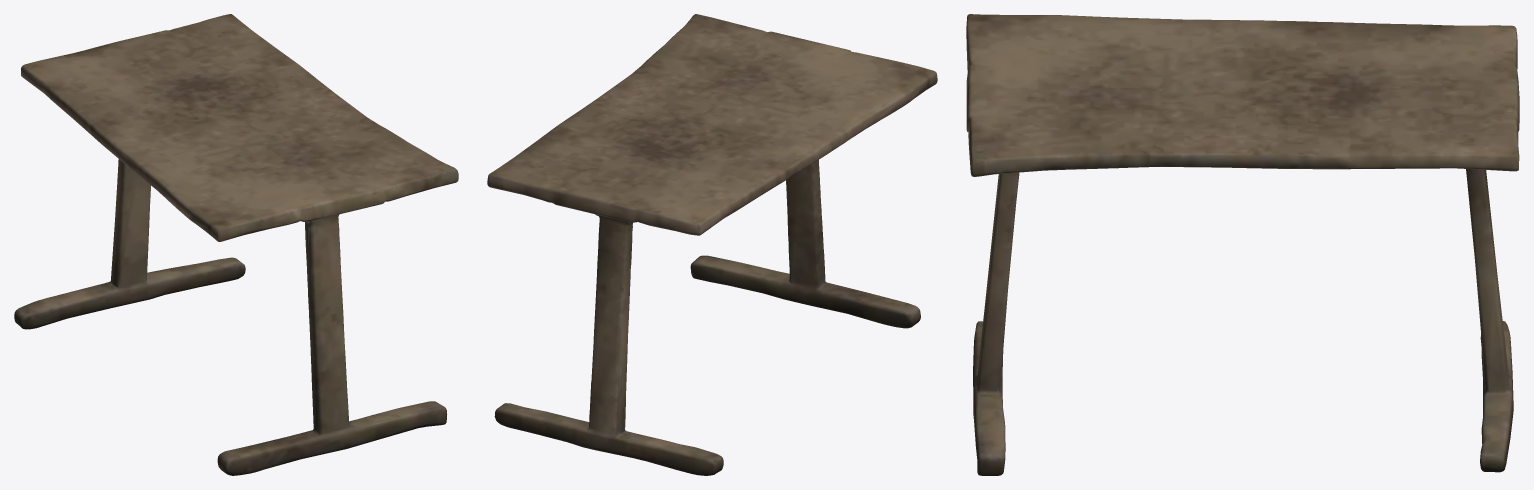
File: plain-wood-banquet-table-v002.glb
3 renders of one model, left to right at view 1: azimuth 30°, elevation 25°; view 2: azimuth 150°, elevation 25°; view 3: azimuth 270°, elevation 25°, orthographic. The views are drawn at different scales.
Visible parts, largest first — view 1: plain-wood-banquet-table; view 2: plain-wood-banquet-table; view 3: plain-wood-banquet-table.
Part boxes in pixels (x1,y1,x2,y2): plain-wood-banquet-table: [14, 14, 458, 475]; plain-wood-banquet-table: [487, 14, 937, 475]; plain-wood-banquet-table: [966, 14, 1519, 475].
Size of the model in its own units: 0.7838 by 0.7893 by 1.23.
1 material, 1 textured.
